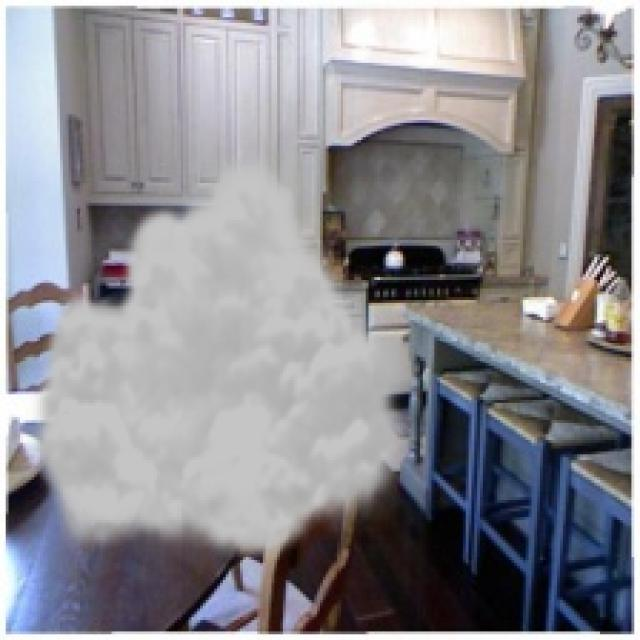Smoke: (26, 146, 420, 563)
